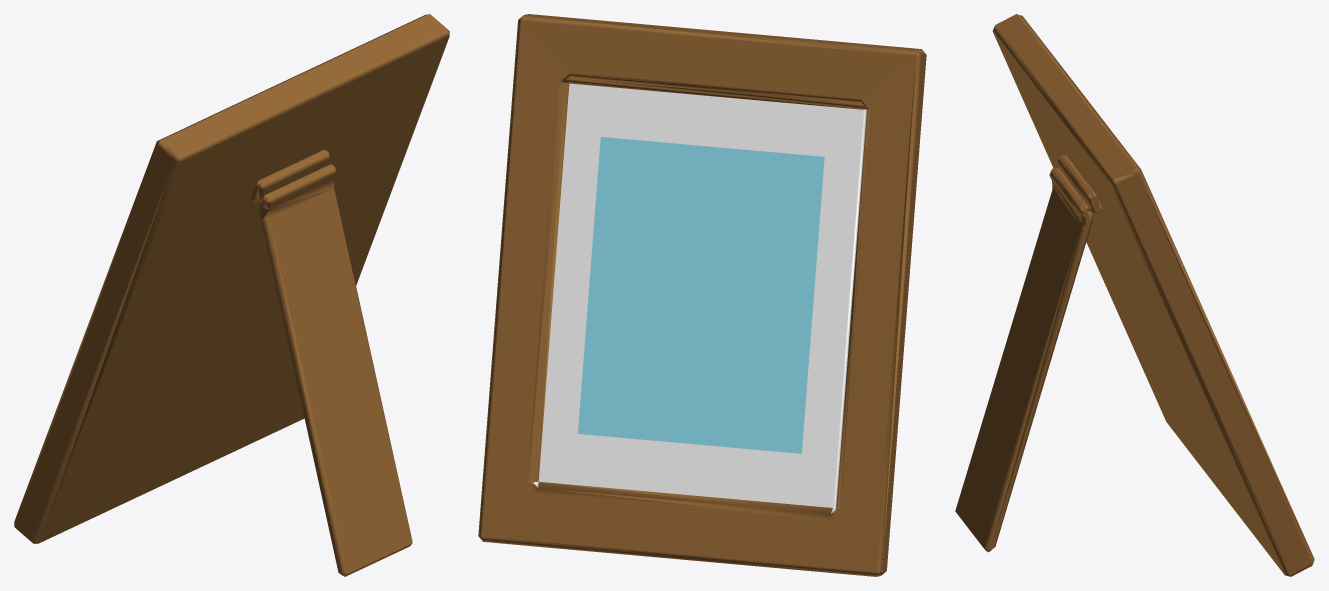
File: bukuShelf5.obj
3 views of the same model, side by side, from view 1: azimuth 30°, elevation 25°; view 2: azimuth 150°, elevation 25°; view 3: azimuth 270°, elevation 25° (orthographic). The views are drawn at different scales.
Visible parts, largest first — view 1: Photo_frame_Cube.015; view 2: Photo_frame_Cube.015; view 3: Photo_frame_Cube.015.
Part boxes in pixels (<box>): Photo_frame_Cube.015: <box>14,14,449,576</box>; Photo_frame_Cube.015: <box>478,14,926,576</box>; Photo_frame_Cube.015: <box>955,14,1314,576</box>.
Bounding box in the file's own units: 0.3575 × 0.3899 × 0.2948.
